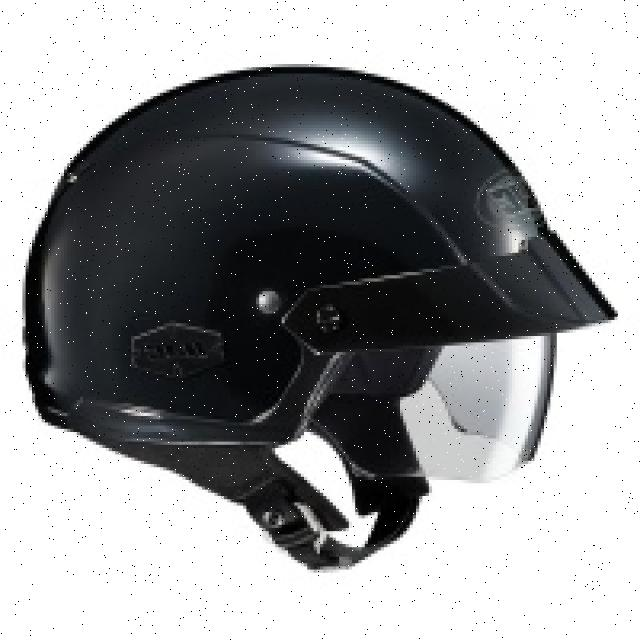Helmet: (26, 68, 615, 567)
